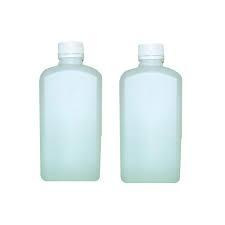Container for household chemicals: (114, 27, 193, 187), (41, 26, 107, 190)
